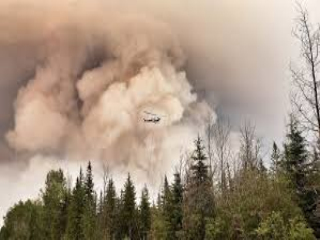smoke: (31, 29, 219, 185)
